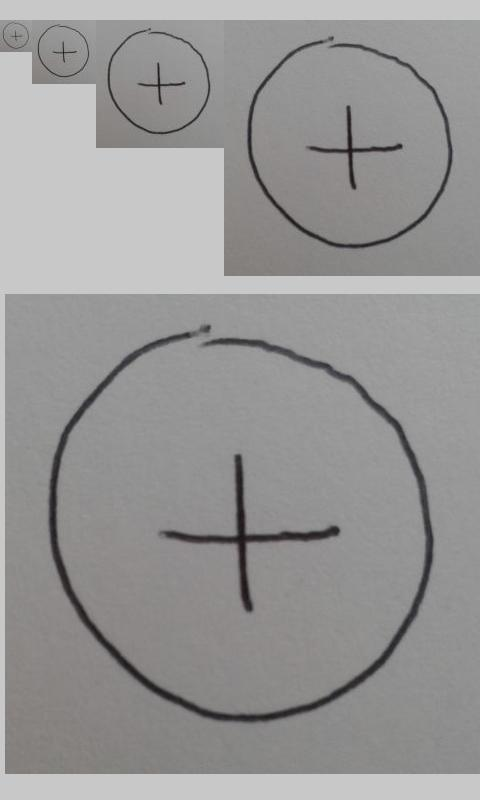button: (46, 323, 437, 726), (246, 36, 454, 250), (107, 28, 211, 135), (37, 24, 90, 78), (2, 22, 30, 50)
